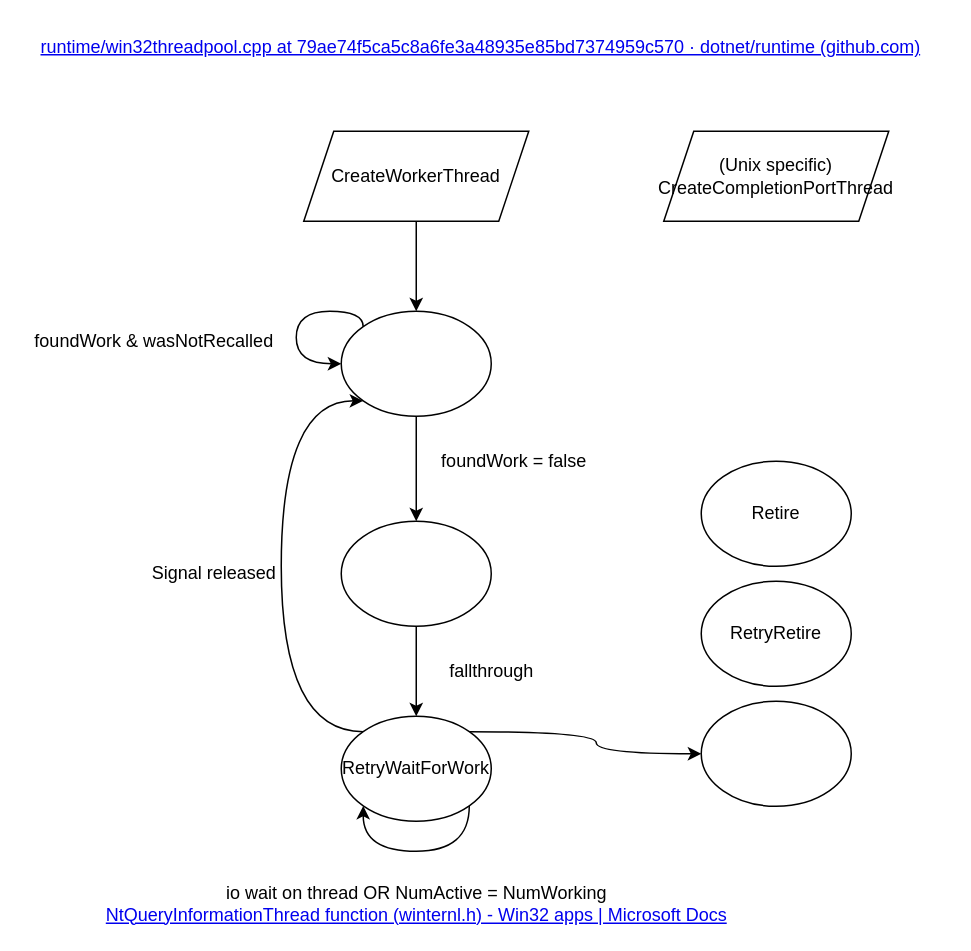
This 971x951 diagram has some shape labels left out. The shapes that lost their labels are listed below. From the top down, each one's centre as x and y in pixels, then its label:
At point 415,363: "Work".
At point 415,573: "WaitForWork".
At point 775,753: "Exit".
